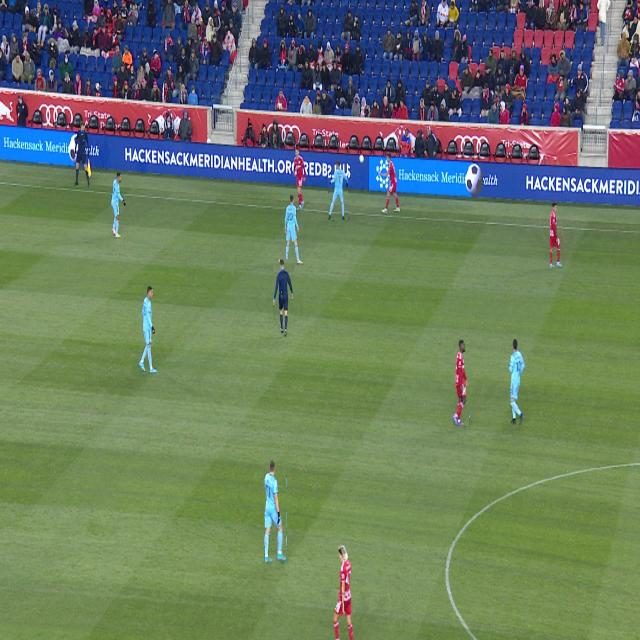player: (265, 460, 286, 562), (333, 546, 353, 640), (139, 286, 157, 373), (509, 339, 525, 425), (454, 340, 469, 426), (285, 194, 303, 264), (329, 160, 348, 220), (111, 172, 125, 237), (550, 202, 562, 268), (294, 147, 306, 210)
referee: (273, 259, 294, 337)
